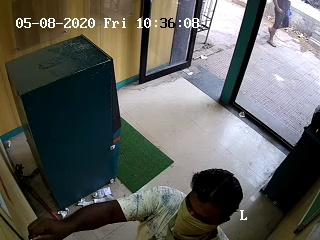open: (139, 3, 265, 104)
